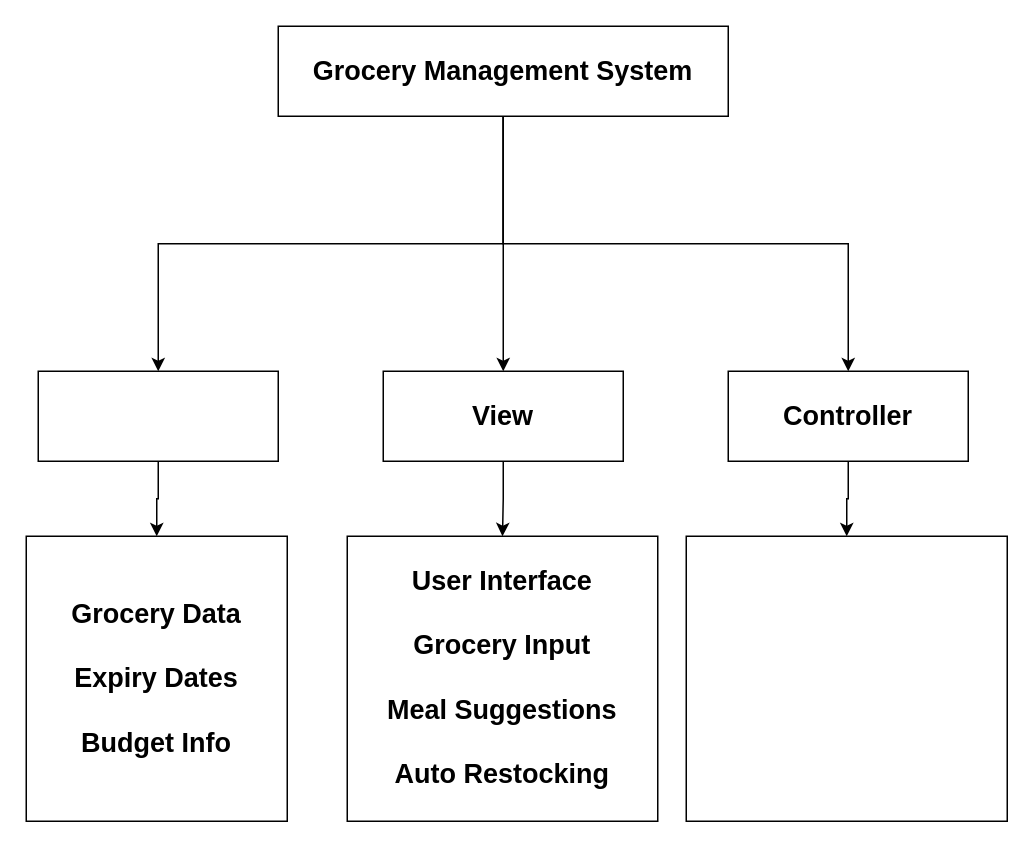
Some shapes in this 1034 by 848 pixel diagram are drawn without their labels. Each missing label, with the box of its shape:
Expiry Reminder Meal Tracking Recipe Maker Auto Restocking Agent: (685, 535, 1007, 821)
Model: (37, 370, 278, 461)
